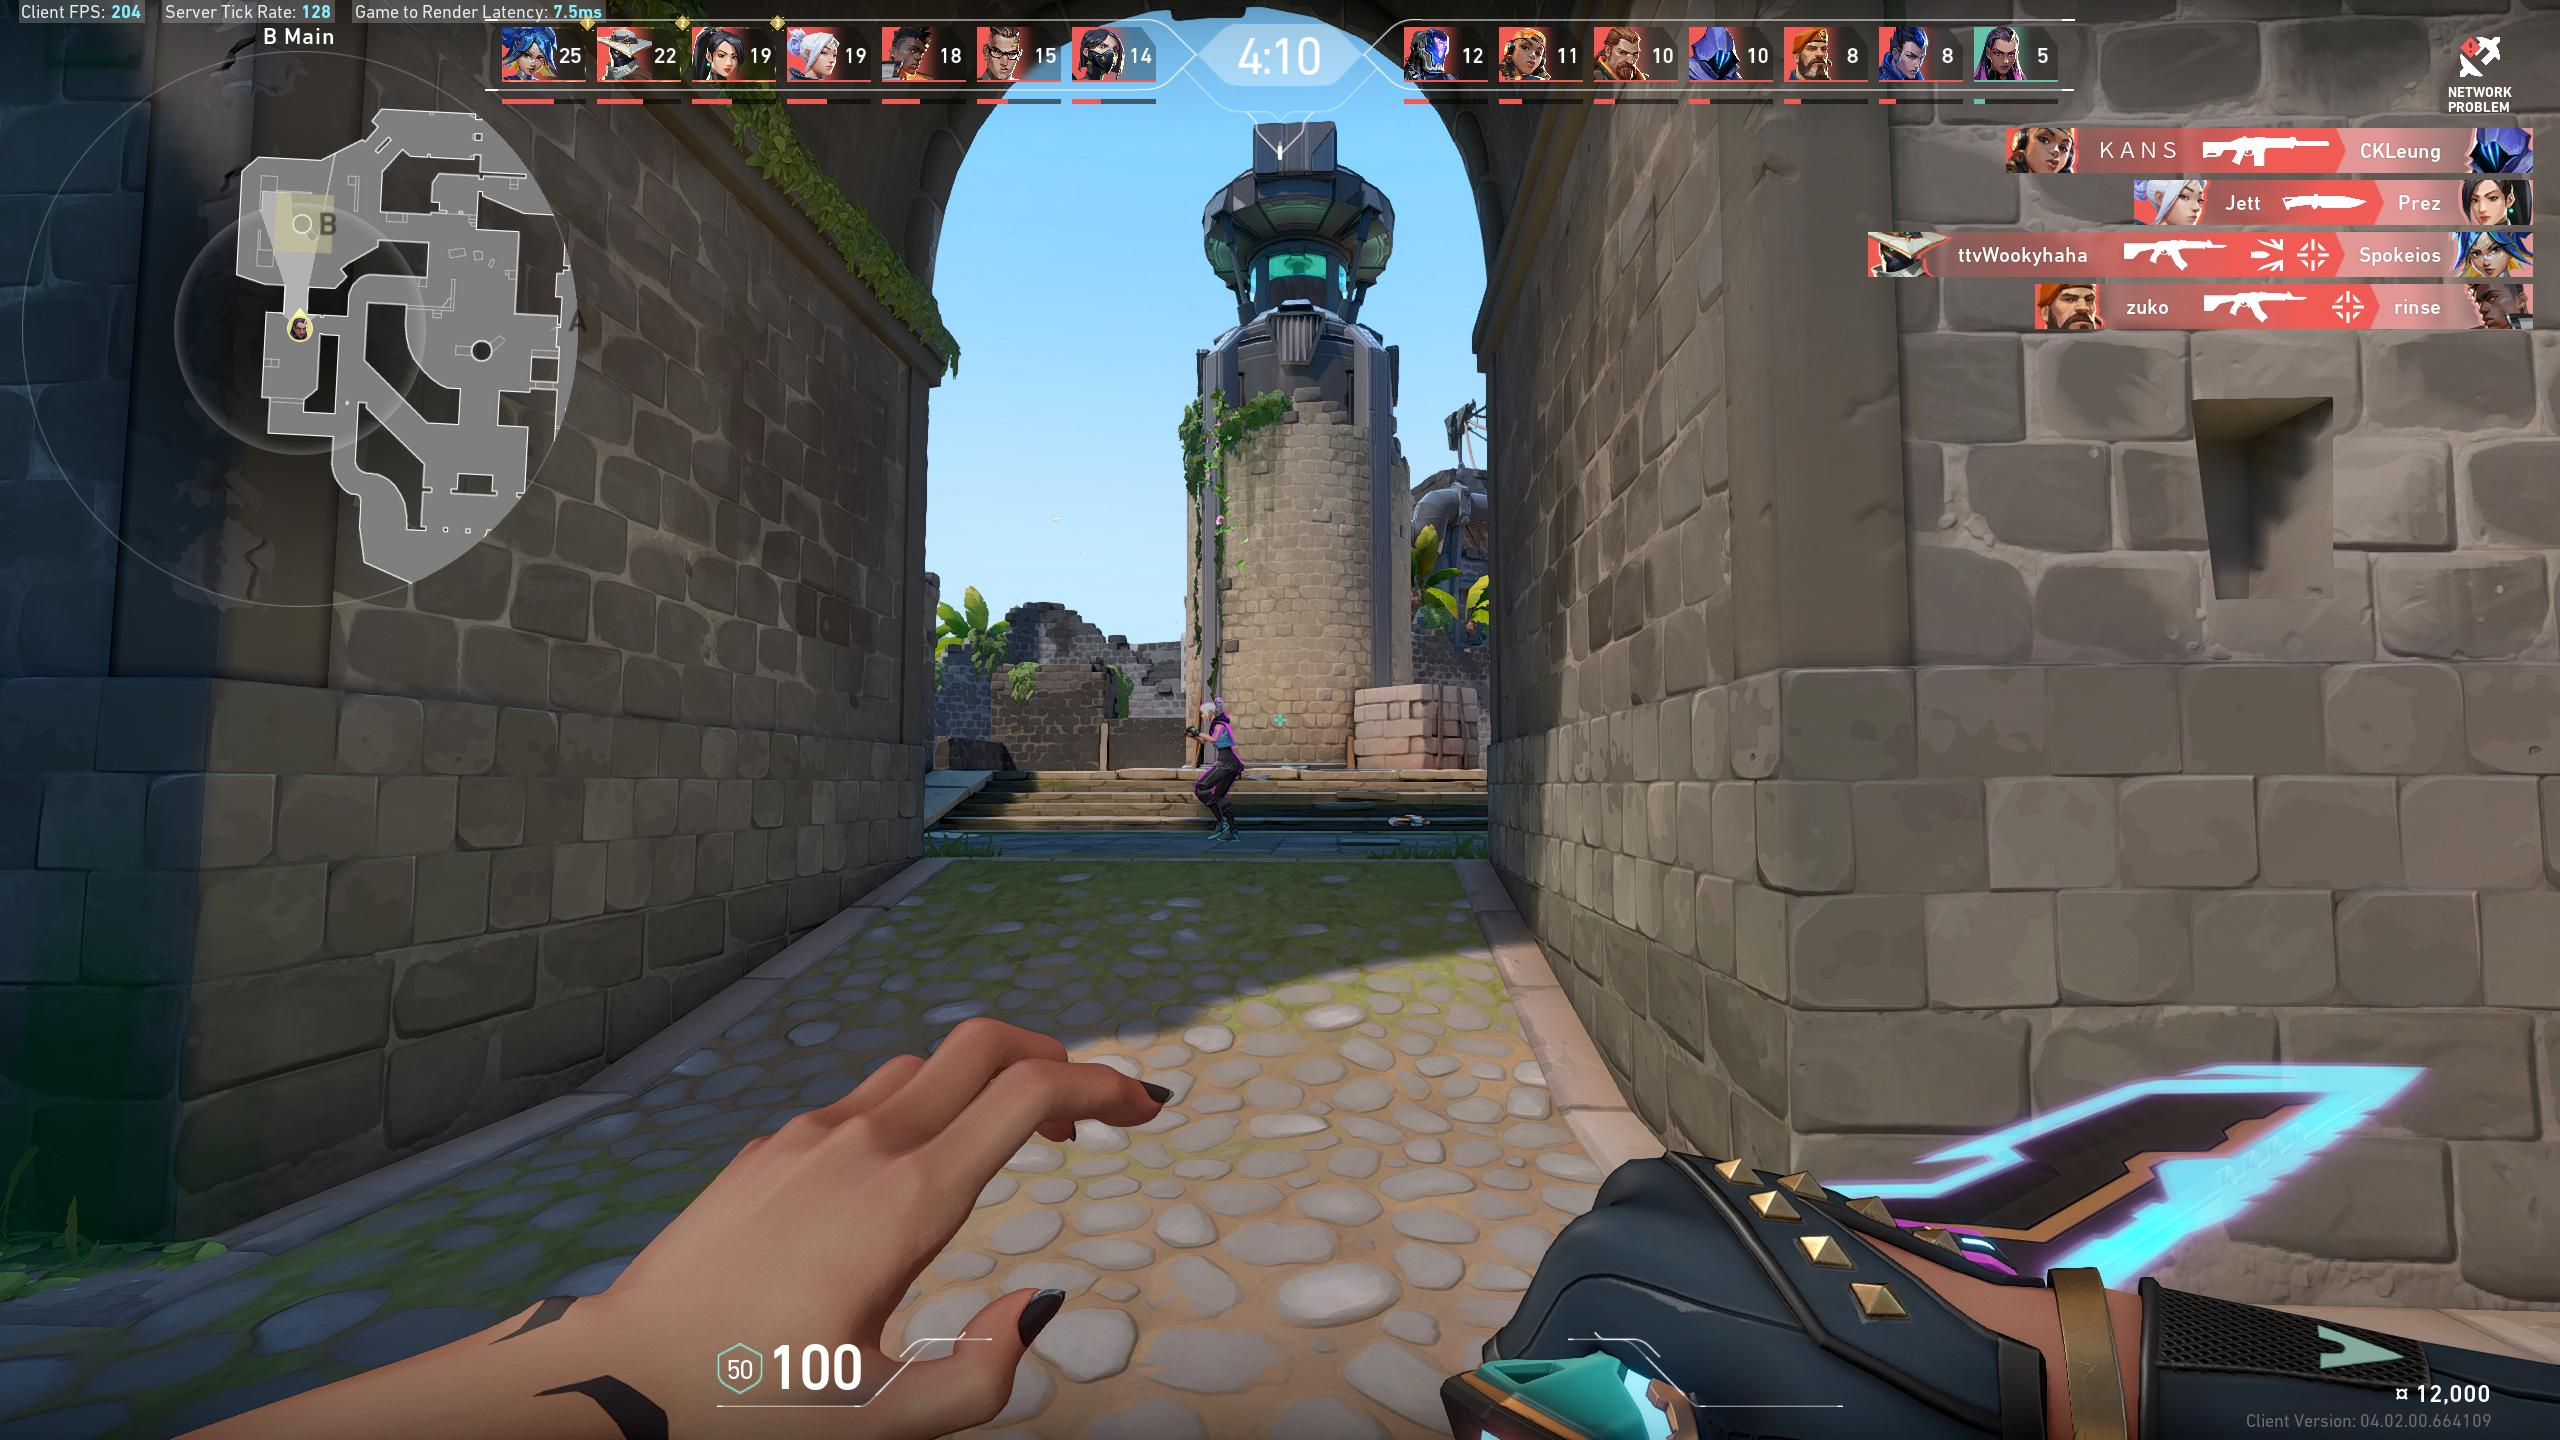enemyBody: (1217, 723, 1227, 745)
enemyHead: (1203, 707, 1217, 717)
